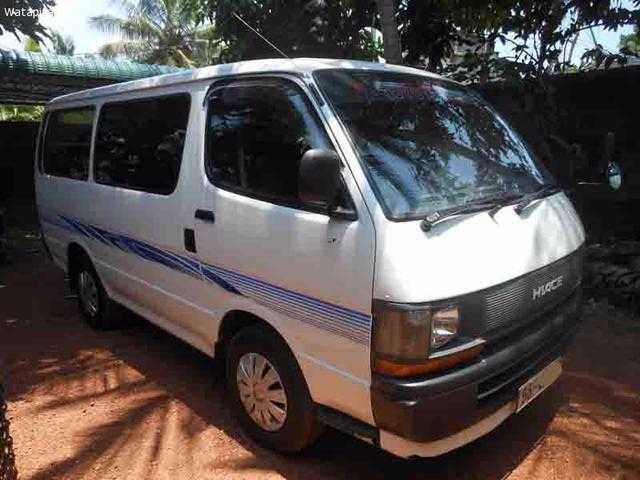van: (33, 56, 584, 461)
